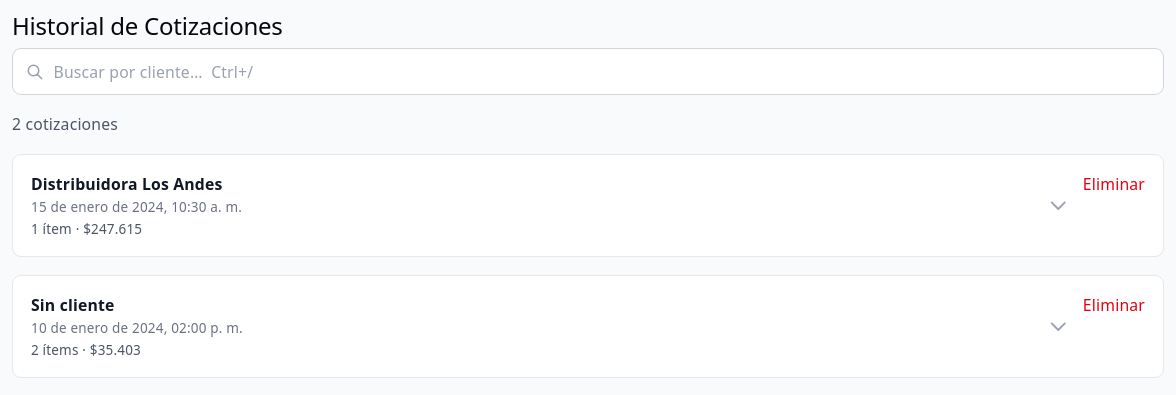
Test: QuoteHistory › client search › shows the "sin resultados" state when nothing matches
The width and height of the screenshot is (1176, 395).
Check: the text "Distribuidora Los Andes" is shown, box [31,173,242,195]
In the field named "buscar cotizaciones por cliente": (588, 72) [12,48,1164,95], type "zzz"
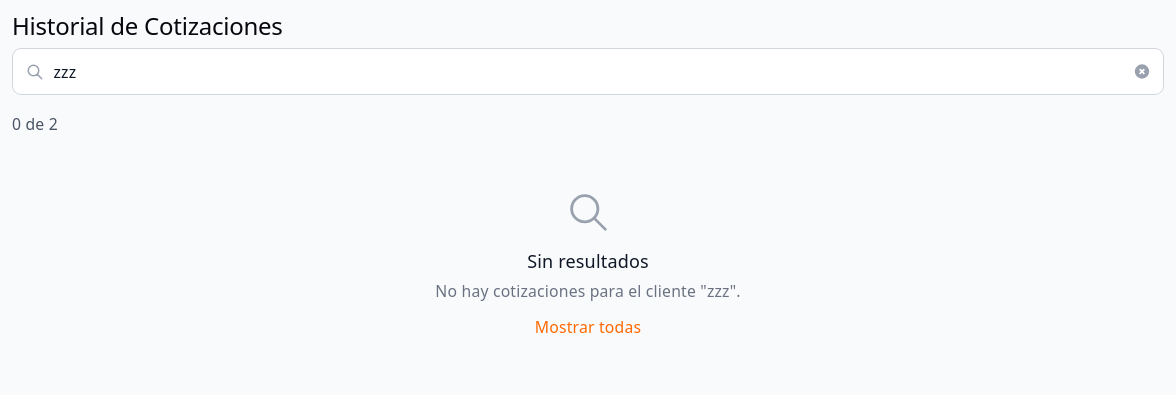
Check: the heading "Sin resultados" is shown, box [527,249,649,273]
Check: the text "0 de 2" is shown, box [12,113,58,135]
Check: the element with test id "quote-card-1" is gone
